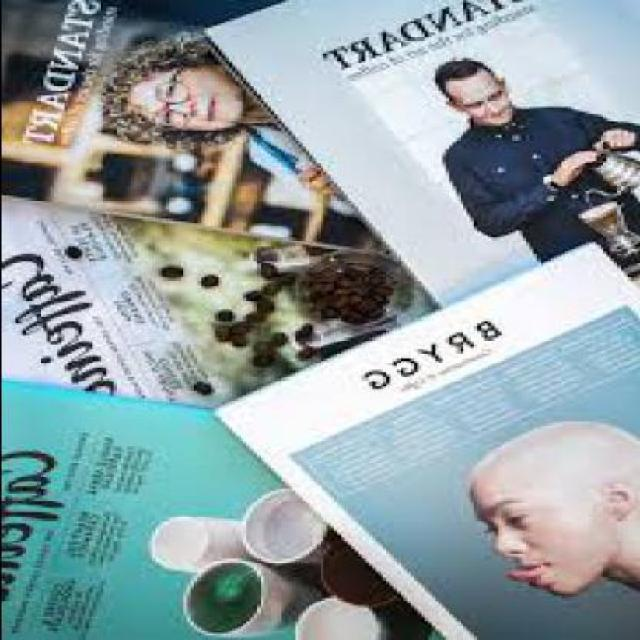PAPER: (1, 0, 638, 638), (206, 240, 637, 637), (196, 0, 636, 308), (1, 374, 444, 638), (2, 0, 389, 254), (1, 192, 437, 411)
